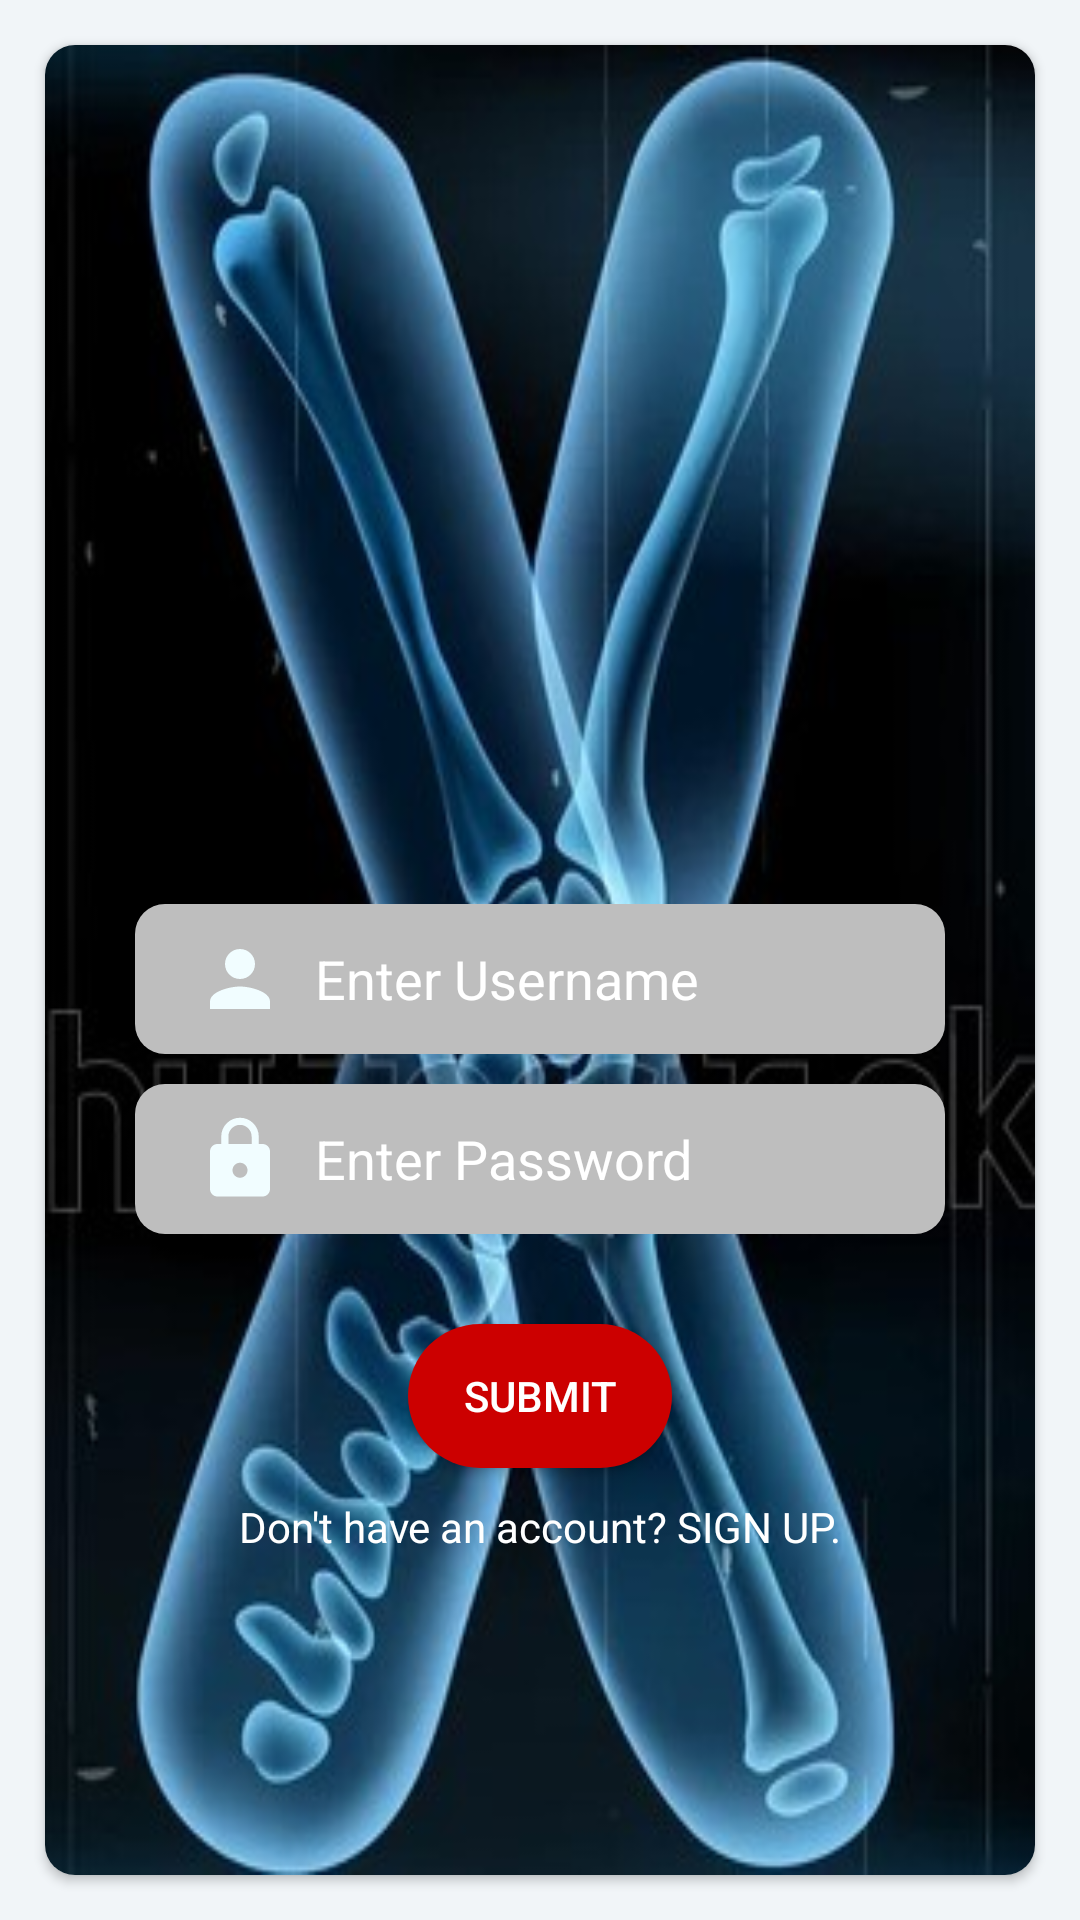

Point at icon controls on the screen. Image size 1080 x 1920, points as (x=x, y=y).
lock: (x=240, y=1157)
person: (x=240, y=979)
